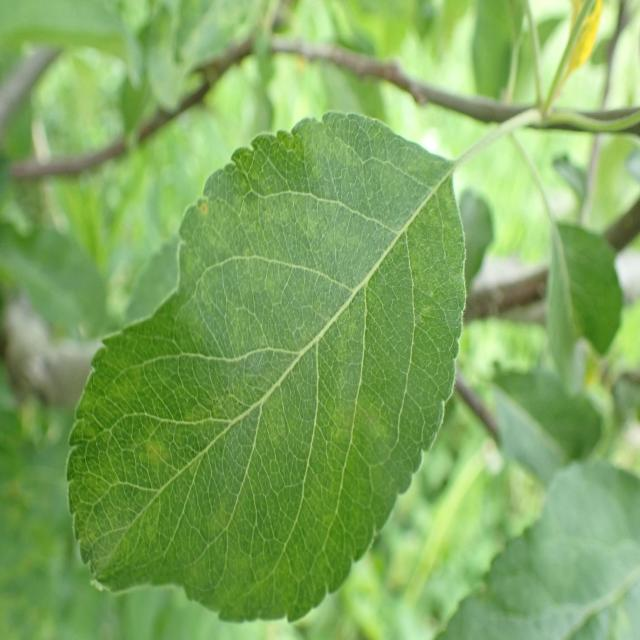Rust: (188, 185, 224, 232)
